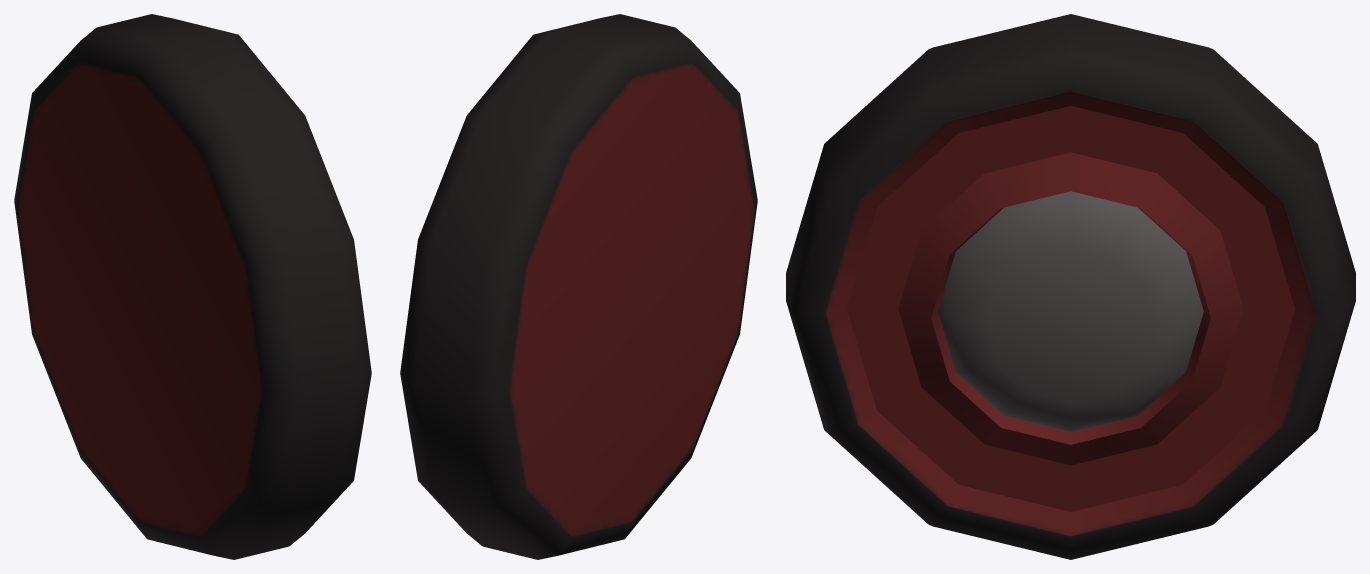
The model's file is cardboard_car3_tire_front_left.fbx.
The picture shows the model from 3 angles, left to right: view 1: azimuth 30°, elevation 25°; view 2: azimuth 150°, elevation 25°; view 3: azimuth 270°, elevation 25°; orthographic projection. The views are drawn at different scales.
Visible parts, largest first — view 1: cardboard_car3_tire3; view 2: cardboard_car3_tire3; view 3: cardboard_car3_tire3.
Part boxes in pixels (x1=…): cardboard_car3_tire3: x1=14, y1=14, x2=371, y2=559; cardboard_car3_tire3: x1=400, y1=14, x2=757, y2=559; cardboard_car3_tire3: x1=786, y1=14, x2=1355, y2=559.
Bounding box in the file's own units: 15.49 × 57.61 × 57.61.
